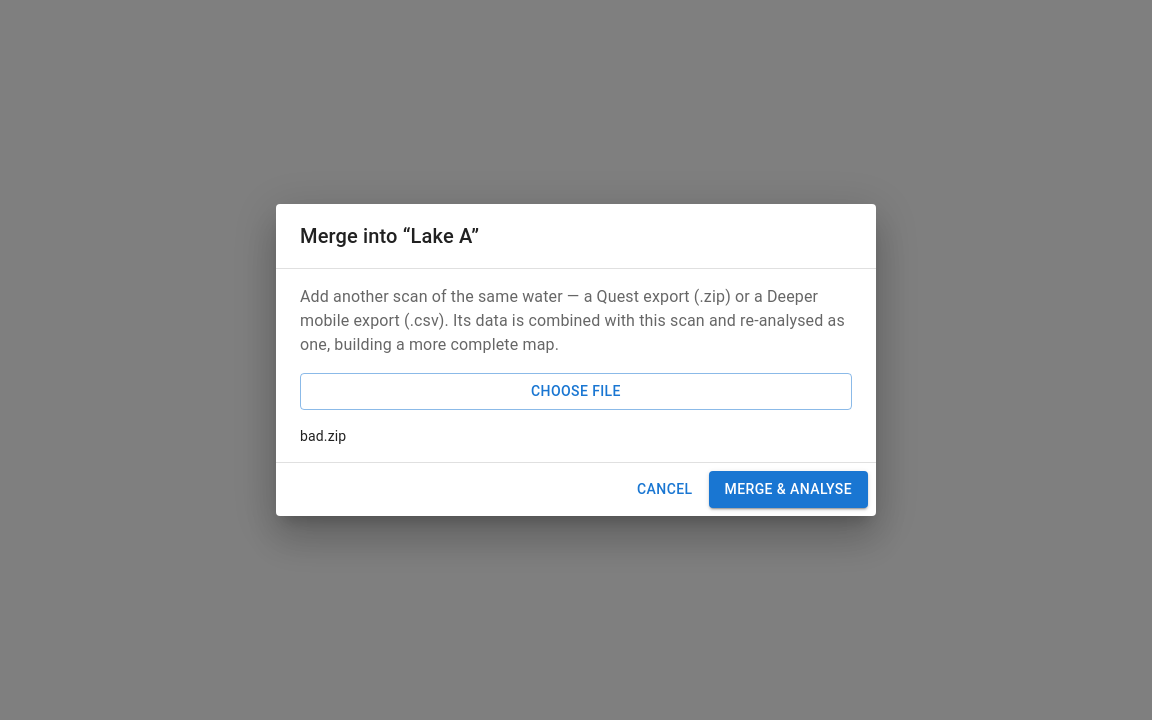
Scenario: <MergeDialog/> › surfaces a merge error without closing the dialog
Earlier steps of the test are not shown.
Expected: the text "bad.zip" is shown, [300,428,346,444]
Click the button "Merge & analyse": (788, 489) [708,471,868,508]
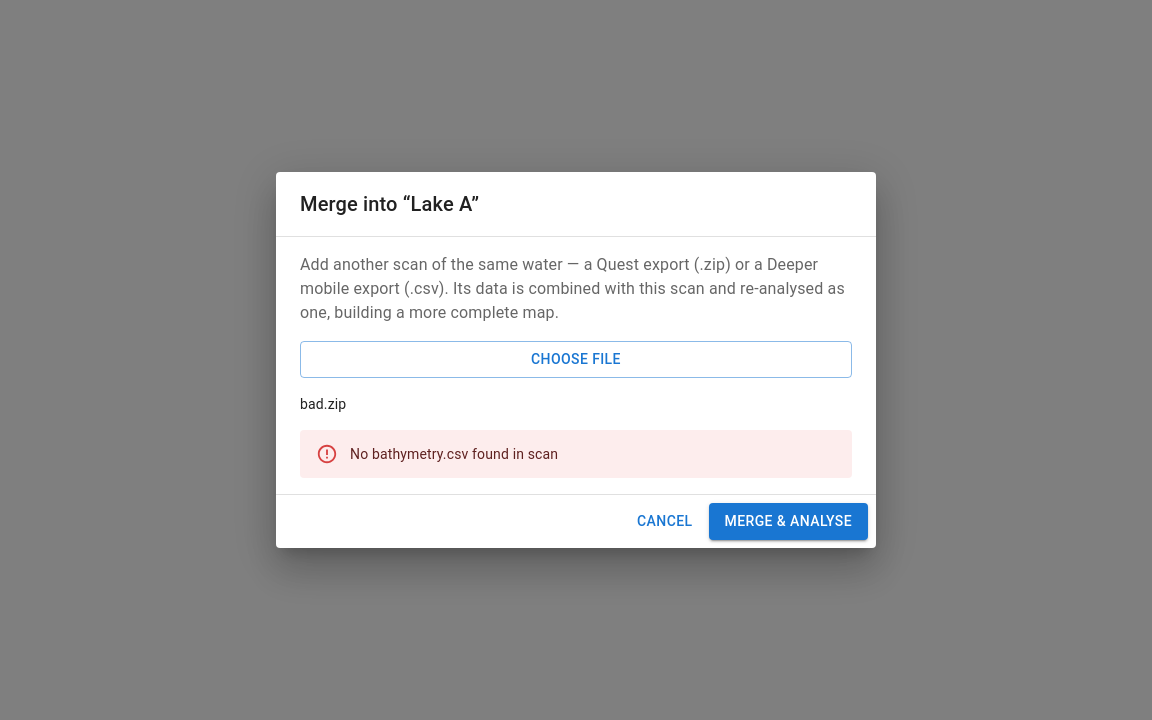
Result: the text "No bathymetry.csv found in scan" is shown at [350,446,558,462]
